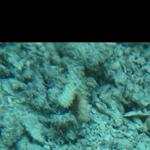dead: (1, 43, 149, 148)
